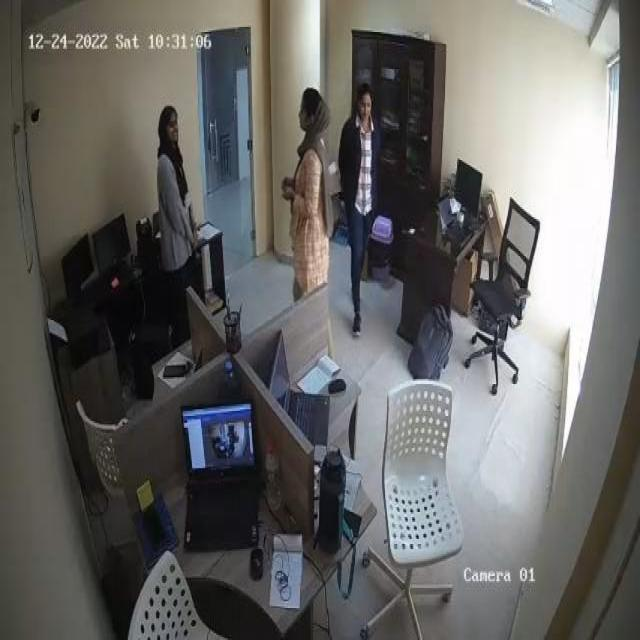bare_hand: (280, 177, 298, 205), (187, 222, 201, 254)
